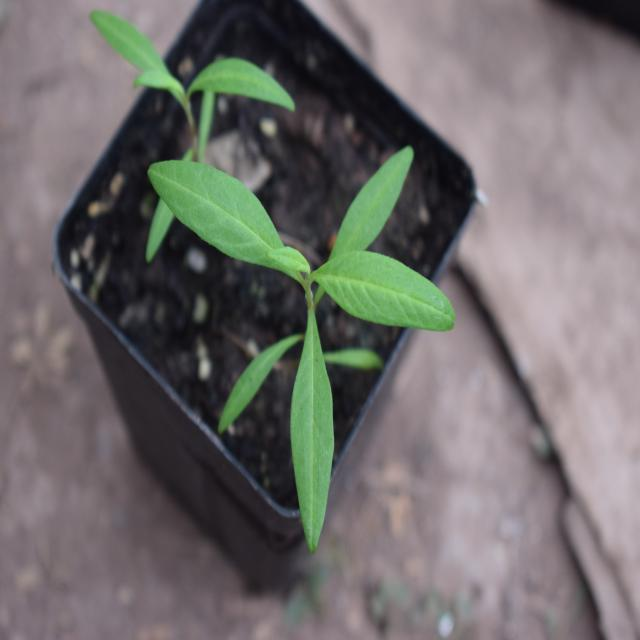white_smart_weed: (120, 115, 482, 534)
